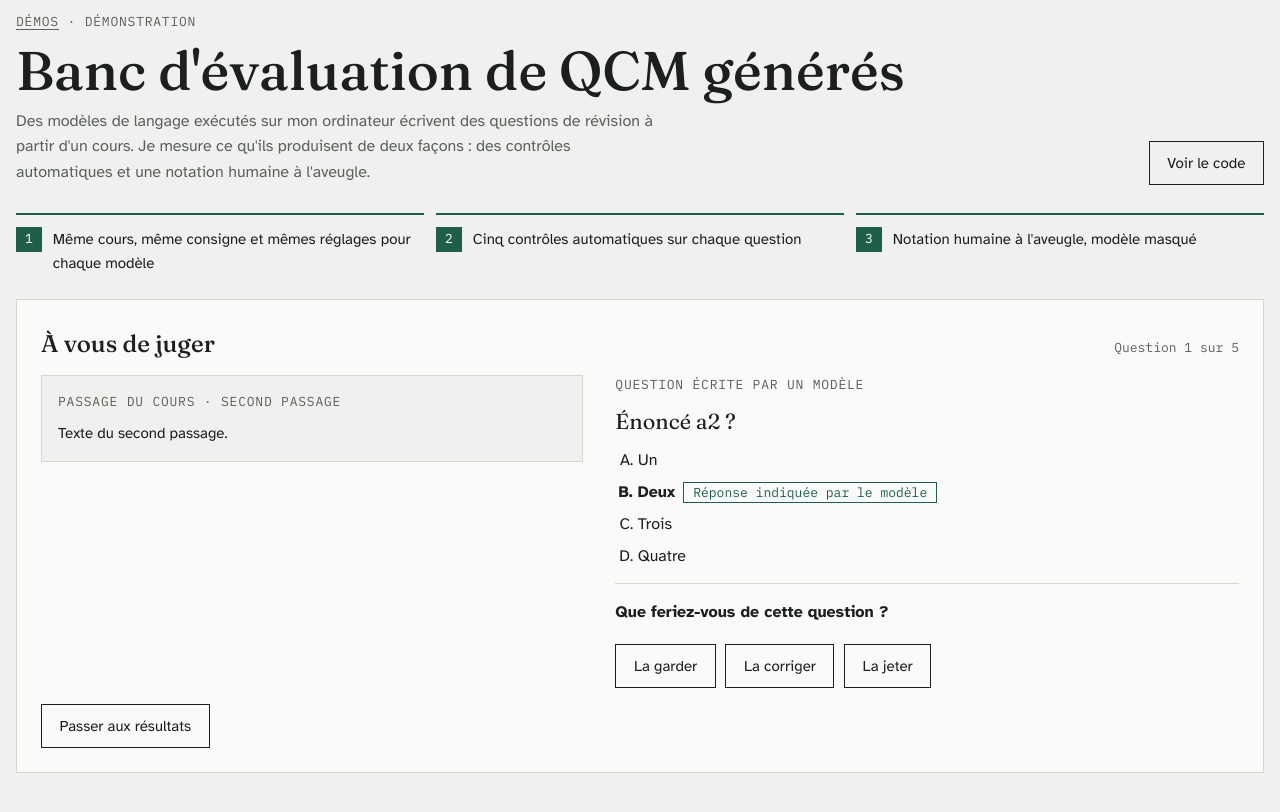
page du banc › masque le modèle tant que le visiteur n'a pas jugé, puis révèle tout
Expected: the text "Énoncé a2 ?" is shown, left=615, top=408, right=736, bottom=435
Expected: the text "alpha" is not shown
Click the button "La garder": (666, 666) left=615, top=644, right=716, bottom=688
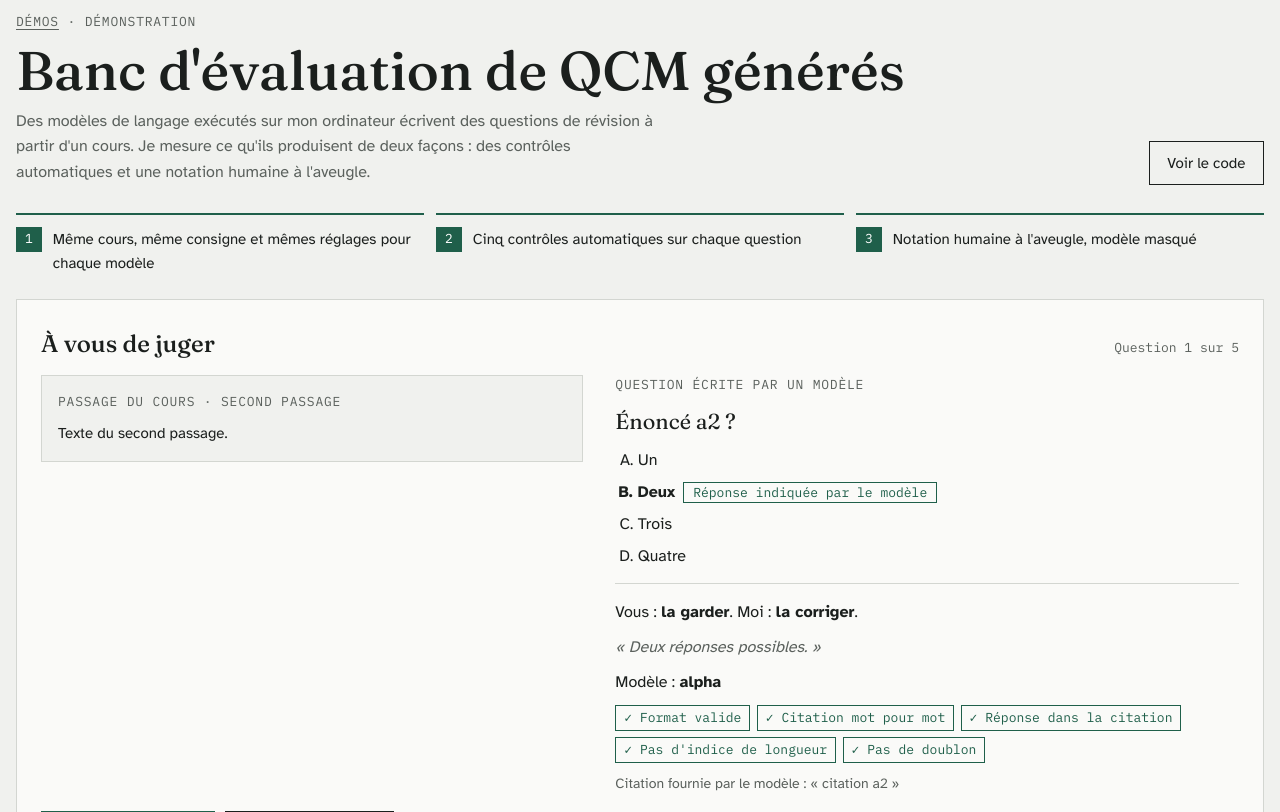
Result: the message that starts with "Vous :" shows "Vous : la garder. Moi : la corriger." at left=615, top=582, right=1239, bottom=795
Result: the message that starts with "Vous :" shows "Modèle : alpha" at left=615, top=582, right=1239, bottom=795
Result: the message that starts with "Vous :" shows "Deux réponses possibles." at left=629, top=637, right=807, bottom=657
